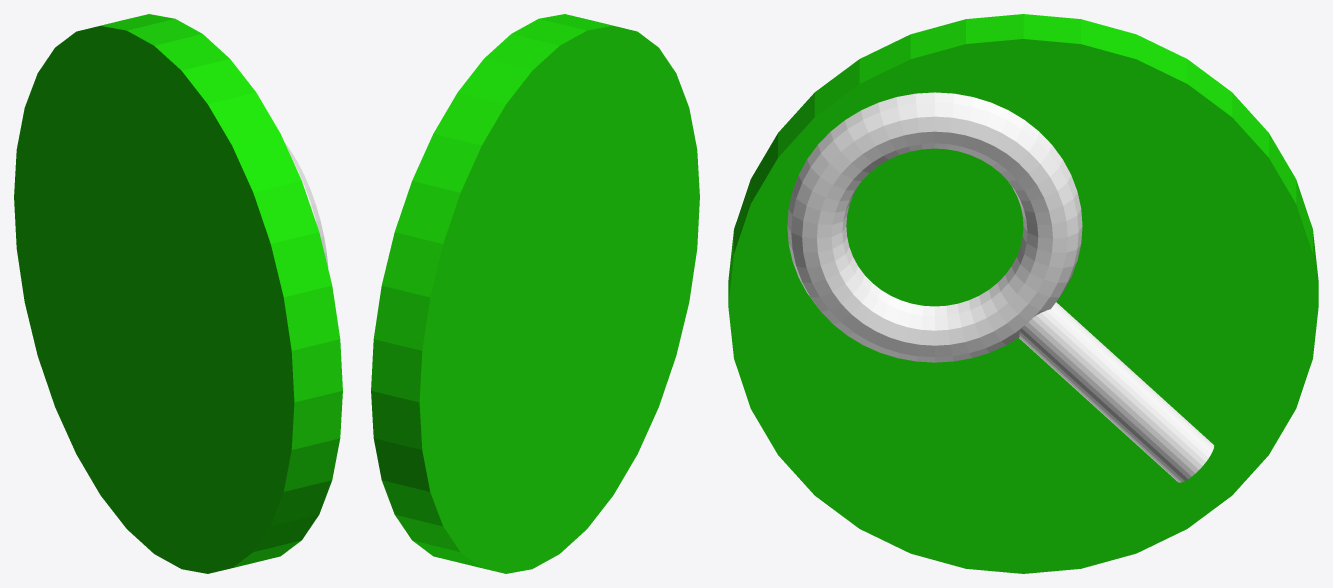
File: Icon.glb
3 views of the same model, side by side, from view 1: azimuth 30°, elevation 25°; view 2: azimuth 150°, elevation 25°; view 3: azimuth 270°, elevation 25° (orthographic). The views are drawn at different scales.
Visible parts, largest first — view 1: Back Icon, Magnifier Lens; view 2: Back Icon; view 3: Back Icon, Magnifier Lens, Magnifier Handle.
Boxes of the visible parts, x1,y1,x2,y2 form: Back Icon: [14, 14, 342, 573]; Magnifier Lens: [284, 142, 328, 268]; Back Icon: [371, 14, 699, 573]; Back Icon: [728, 14, 1318, 573]; Magnifier Lens: [787, 92, 1082, 362]; Magnifier Handle: [1019, 302, 1214, 482].
Size of the model in its own units: 0.3 by 2 by 2.
